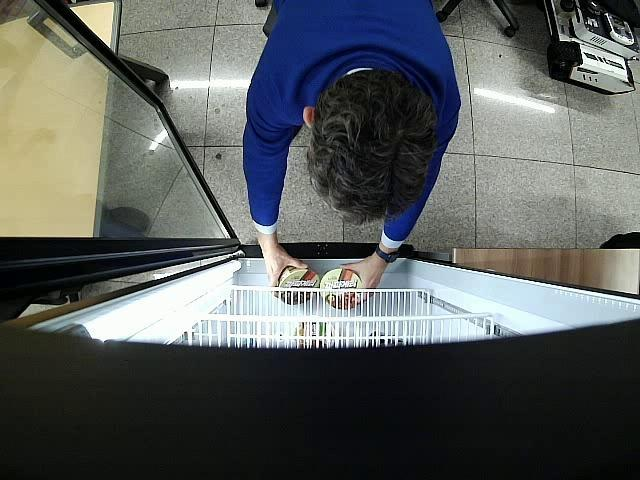03_chapagetti_L: (320, 267, 364, 310), (278, 265, 320, 305)
